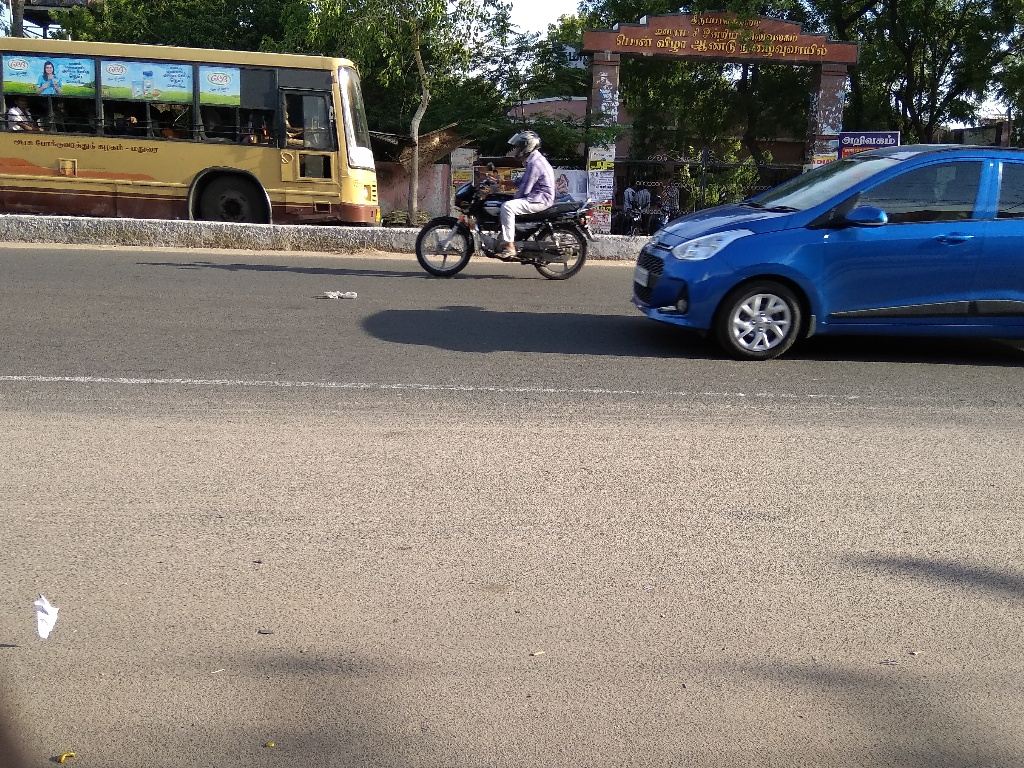biker: (403, 110, 608, 289)
helmet: (499, 122, 548, 168)
